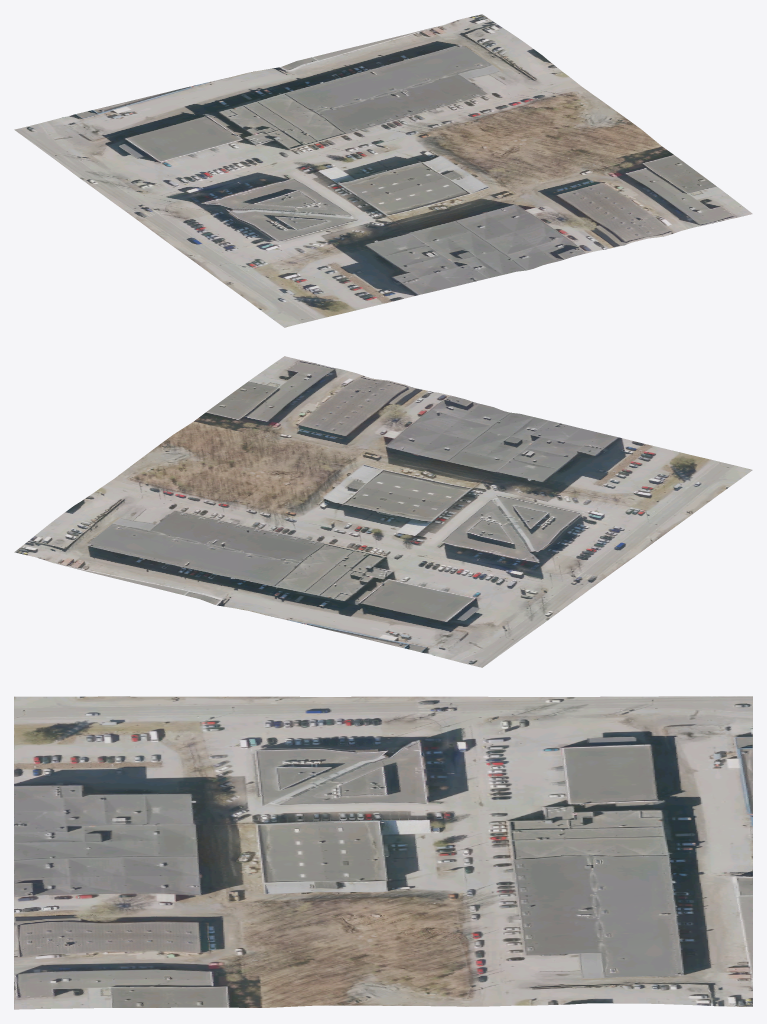
File: CM_Terrain_24488410_6818975.fbx
3 views of the same model, one above another, from view 1: azimuth 30°, elevation 25°; view 2: azimuth 150°, elevation 25°; view 3: azimuth 270°, elevation 25° (orthographic). The views are drawn at different scales.
Parts seen in each view (by area): view 1: CM_Terrain_24488410_6818975_LOD0; view 2: CM_Terrain_24488410_6818975_LOD0; view 3: CM_Terrain_24488410_6818975_LOD0.
Boxes of the visible parts, box(x1,y1,x2,y2) form: CM_Terrain_24488410_6818975_LOD0: box(14, 14, 752, 327); CM_Terrain_24488410_6818975_LOD0: box(14, 356, 752, 667); CM_Terrain_24488410_6818975_LOD0: box(14, 696, 752, 1009).
Size of what is drawn, in the model's own units: 205 by 3.17 by 205.
